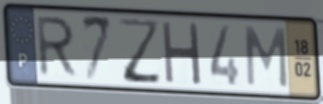4: (207, 23, 242, 88)
7: (81, 12, 114, 85)
H: (160, 18, 204, 88)
M: (243, 24, 290, 91)
R: (35, 15, 80, 79)
Z: (116, 16, 164, 87)
